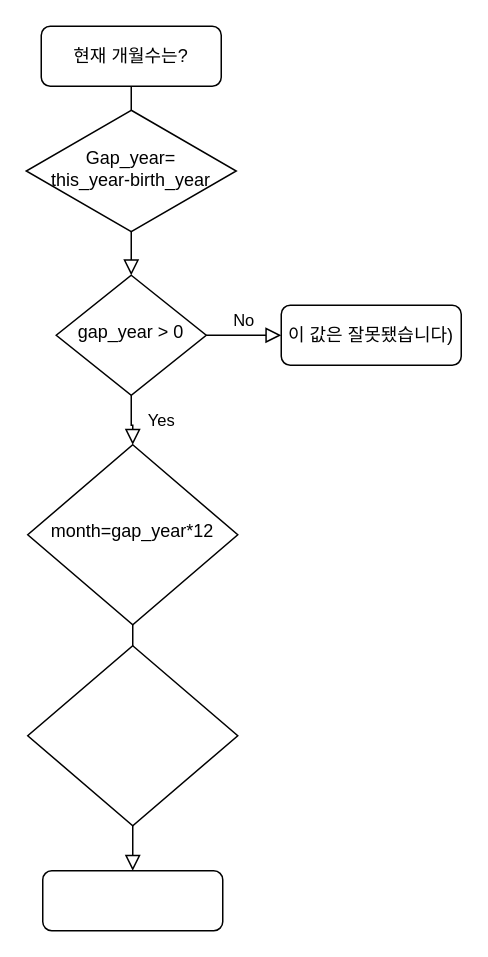
Image size: 488x957. Some labels were removed from this diagram. The shapes that lost their labels are listed below. From the top down, each one's box as (x1, y1, x2, y2) in pixels, then its label:
(26, 644, 238, 826): my_month= month+this_month-birth_month
(41, 869, 223, 931): 당신은 생후%d개월입니다.
